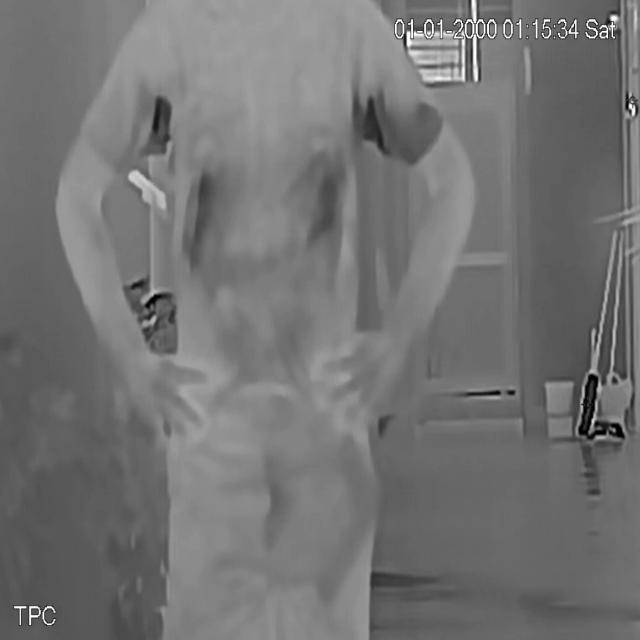Weapon: (318, 434, 384, 609)
